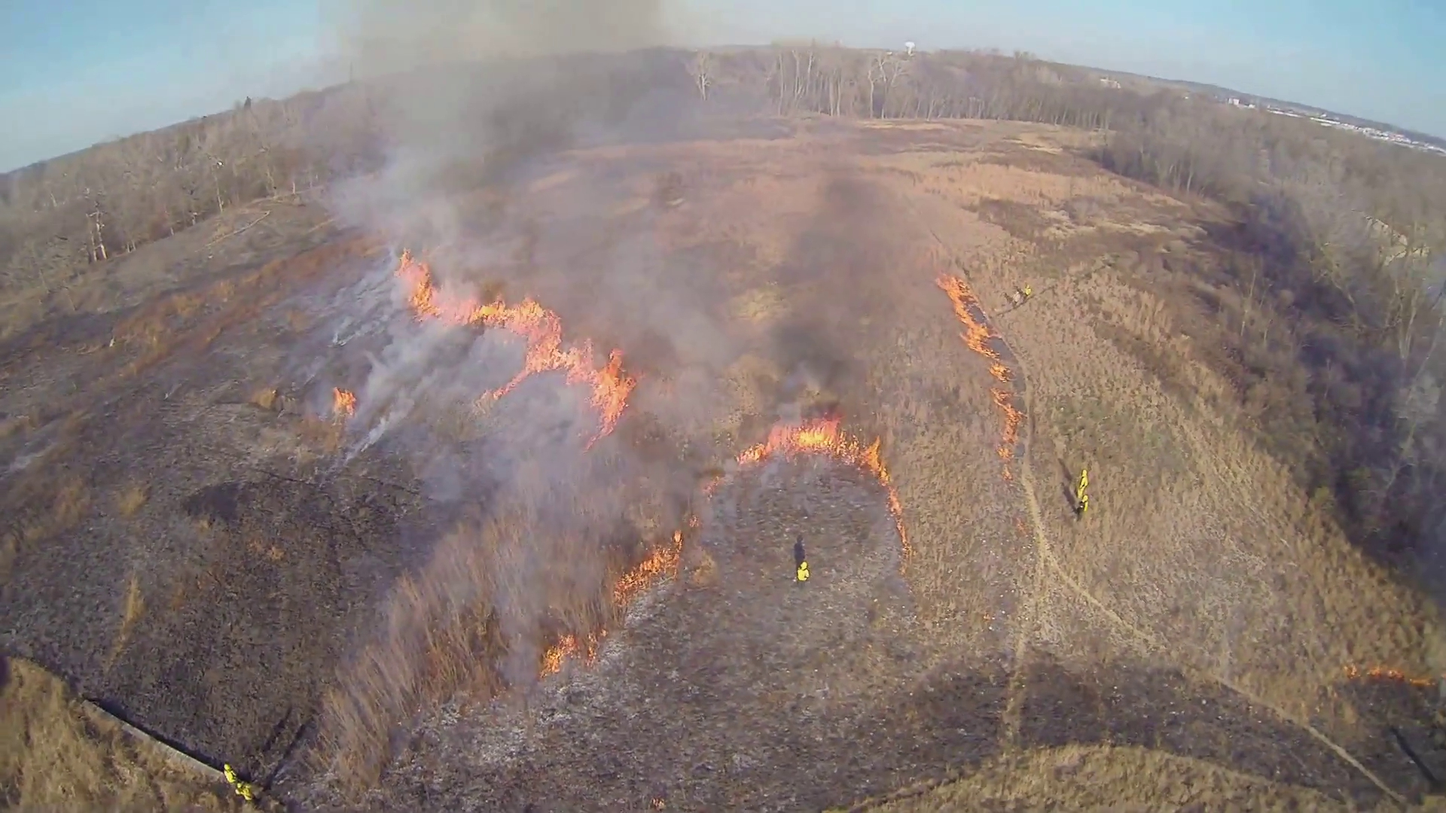forest_fire: (398, 252, 637, 447), (737, 418, 909, 556), (938, 274, 1011, 384), (614, 531, 682, 607), (991, 387, 1024, 475), (541, 633, 602, 676), (333, 388, 356, 418)
